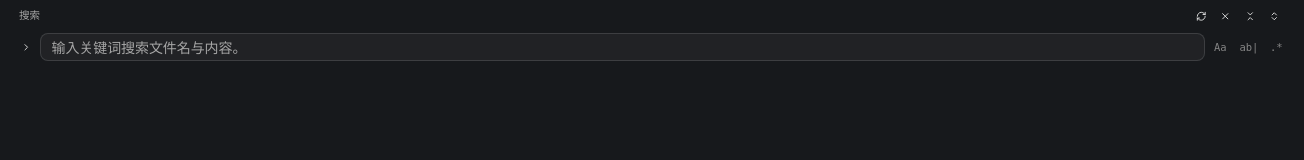
Test: stats bar & toolbar › clear button empties the query and clears results
Step 1. Type "foo" into the field labelled "搜索" → (622, 47), box [40,33,1204,61]
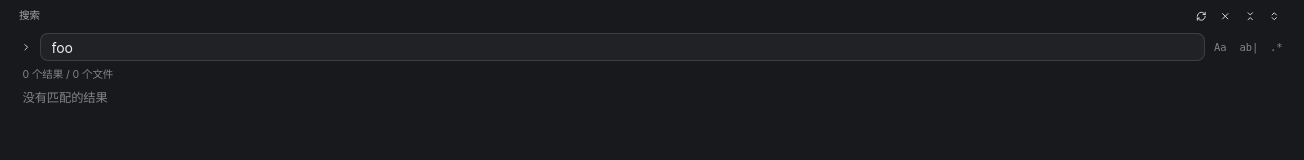
Step 2. Click the button titled "清除" → (1226, 16), box [1215,5,1236,26]
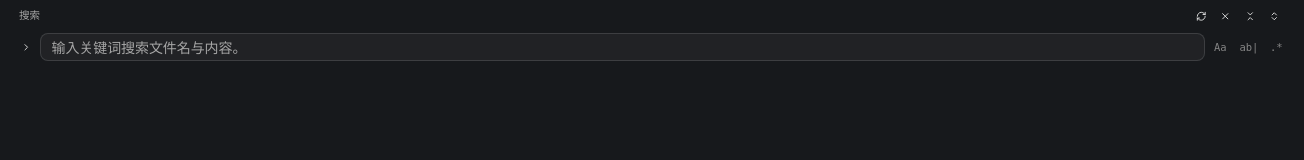
Expected: the field labelled "搜索" is empty, [40,33,1204,61]
